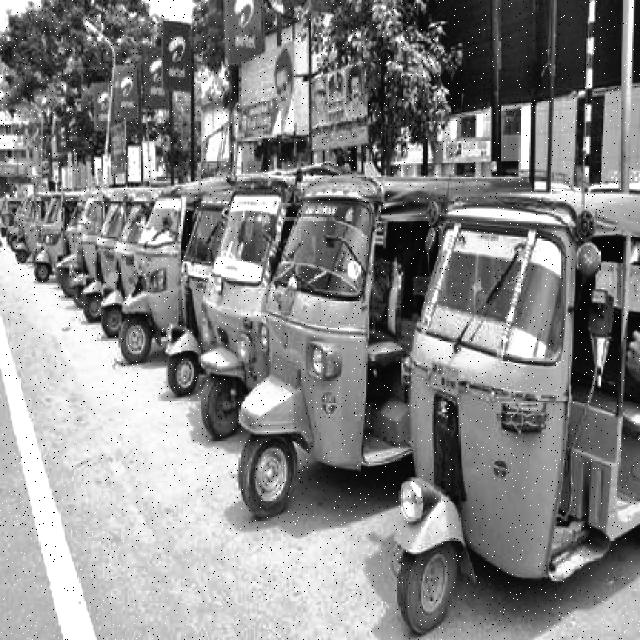Auto-Rickshaw: (394, 191, 639, 629), (237, 175, 434, 517), (119, 185, 186, 367), (26, 195, 60, 283)
